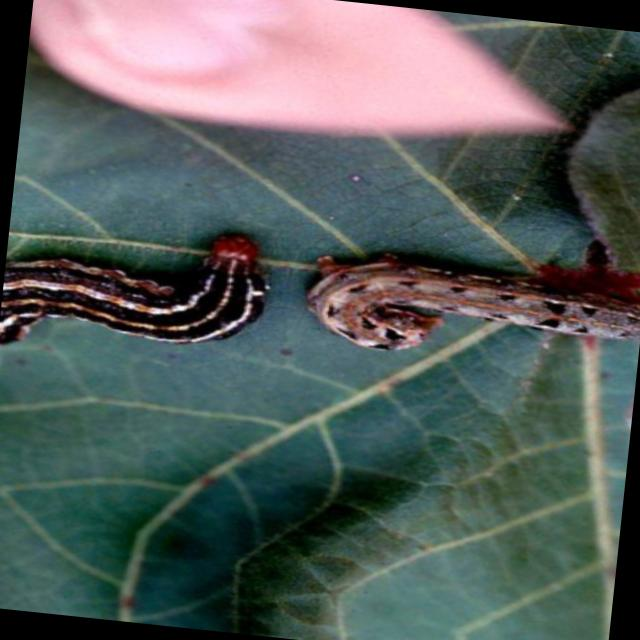Armyworm: (1, 187, 283, 405), (291, 224, 640, 382)
